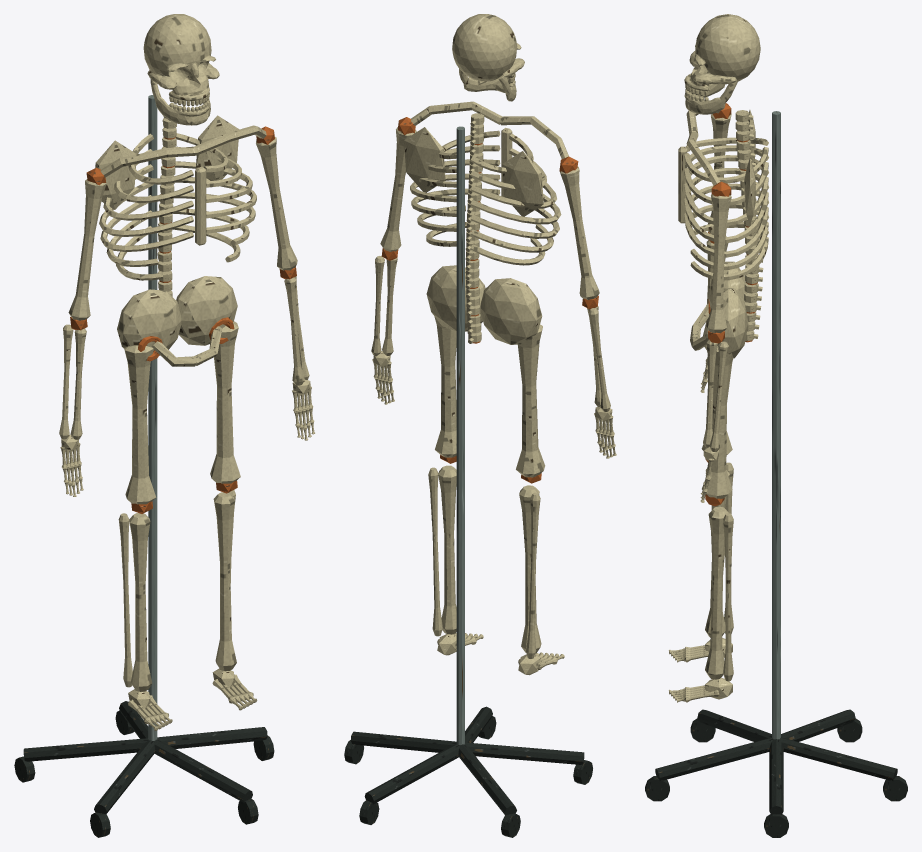
Rendered from skeleton.obj.
3 renders of one model, left to right at view 1: azimuth 30°, elevation 25°; view 2: azimuth 150°, elevation 25°; view 3: azimuth 270°, elevation 25°, orthographic. The views are drawn at different scales.
Parts seen in each view (by area): view 1: skeleton_MaterialGroup_00, skeleton_MaterialGroup_02, skeleton_MaterialGroup_01, skeleton_MaterialGroup_03; view 2: skeleton_MaterialGroup_00, skeleton_MaterialGroup_02, skeleton_MaterialGroup_01, skeleton_MaterialGroup_03; view 3: skeleton_MaterialGroup_00, skeleton_MaterialGroup_02, skeleton_MaterialGroup_01, skeleton_MaterialGroup_03.
Part boxes in pixels (box(x1,y1,x2,y2)): skeleton_MaterialGroup_00: box(59, 14, 315, 730); skeleton_MaterialGroup_02: box(14, 701, 274, 837); skeleton_MaterialGroup_01: box(148, 95, 157, 740); skeleton_MaterialGroup_03: box(70, 126, 296, 513); skeleton_MaterialGroup_00: box(371, 14, 616, 675); skeleton_MaterialGroup_02: box(344, 706, 592, 837); skeleton_MaterialGroup_01: box(456, 126, 464, 744); skeleton_MaterialGroup_03: box(381, 117, 598, 483); skeleton_MaterialGroup_00: box(669, 14, 768, 702); skeleton_MaterialGroup_02: box(645, 709, 907, 837); skeleton_MaterialGroup_01: box(772, 111, 780, 739); skeleton_MaterialGroup_03: box(705, 103, 757, 506).
Size of the model in its own units: 0.5641 by 1.69 by 0.5255.
4 materials, 4 textured.
